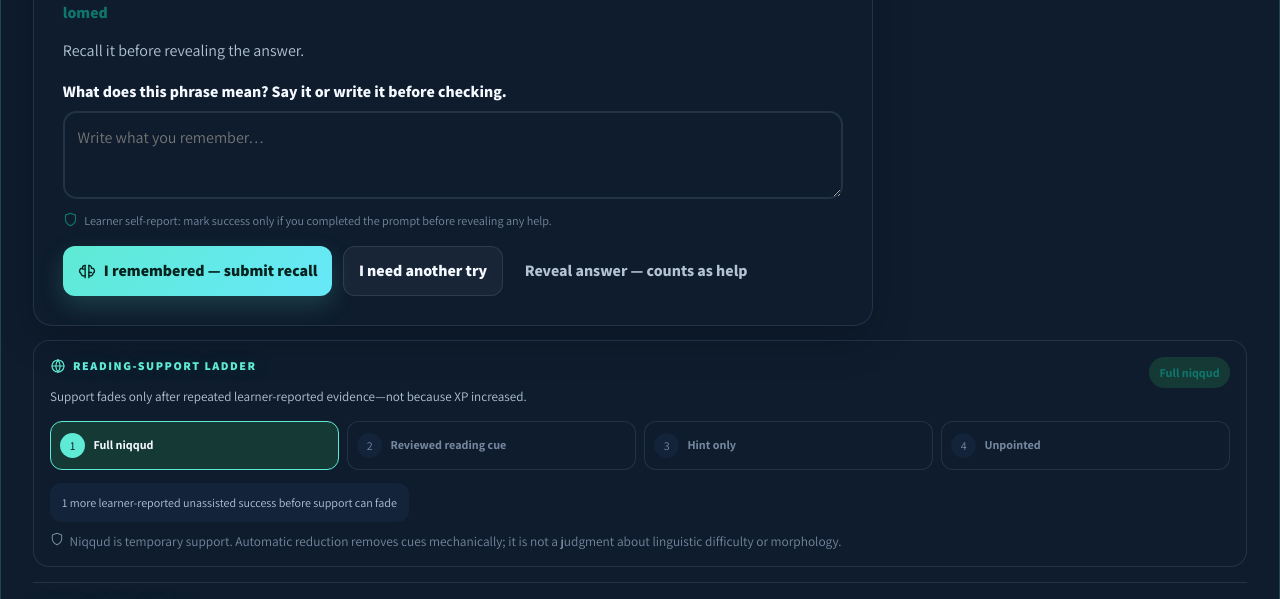
Test: LearningCoreJourney › records revealing a retrieval answer as assisted failure, never as remembered
(page scrolled)
Click the button "Reveal answer — counts as help": click(636, 271) [514,246,759,296]
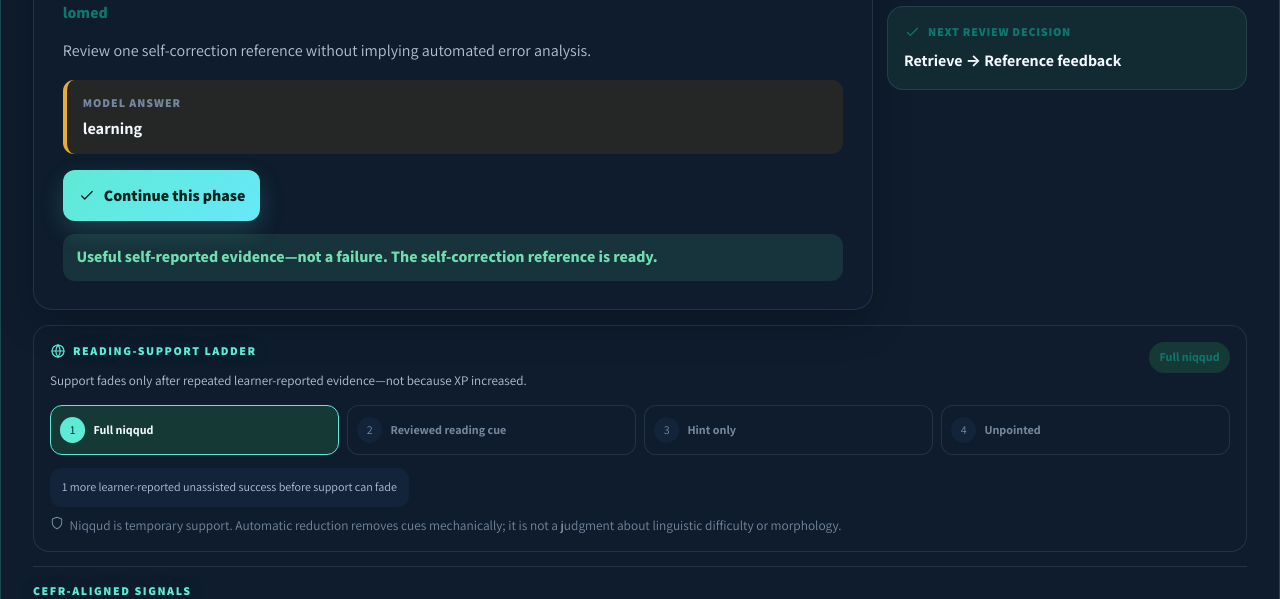
Now the button "I remembered — submit recall" is gone
Now the text "Retrieve → Reference feedback" is shown, box [904,50,1121,71]
